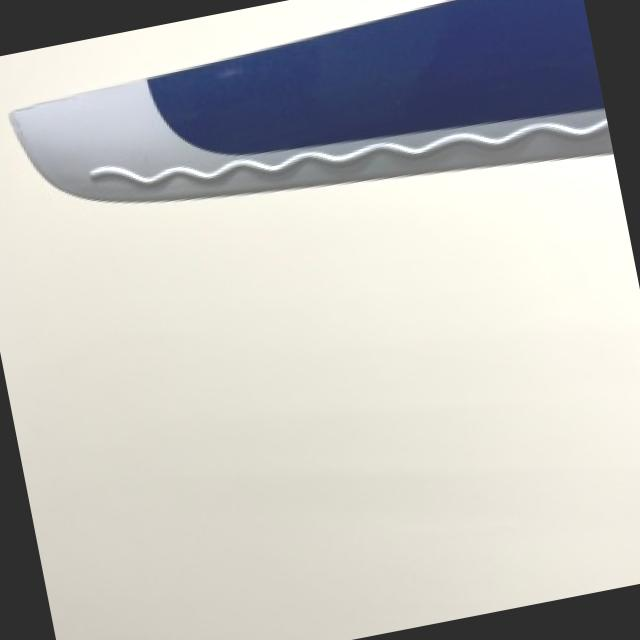healthy: (10, 0, 611, 200)
